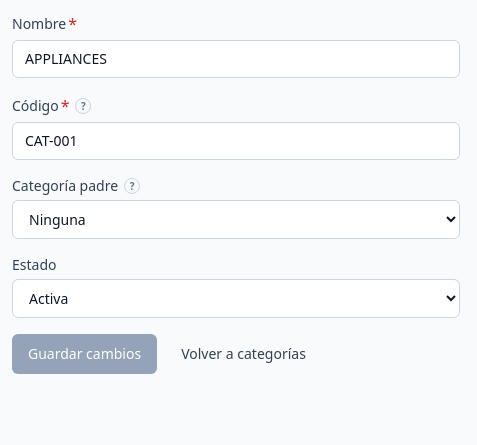
Test: CategoryForm › edit: PATCHes only changed fields
Select "Inactiva" in the dropdown labelled "Estado" at (236, 298), box [12,279,460,318]
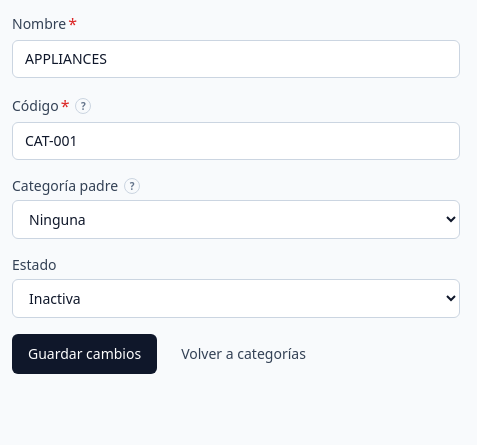
Click the button "Guardar cambios" at (85, 354), box [12,334,157,374]
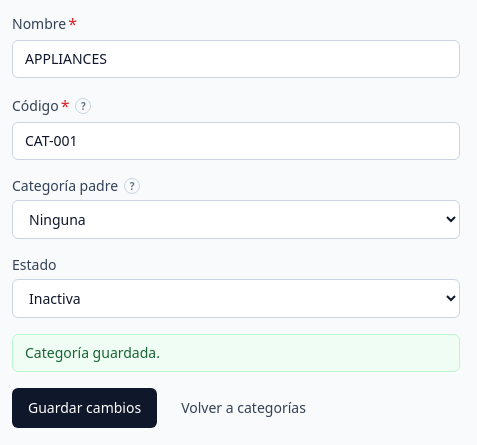
Result: the text "Categoría guardada." is shown at [25,343,160,362]
